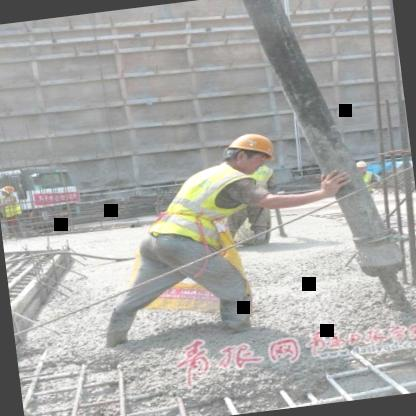helmet: (213, 122, 283, 176)
